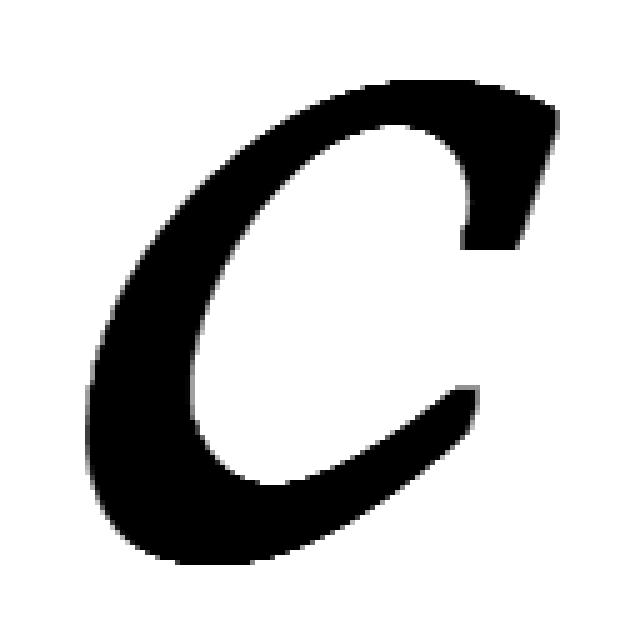C: (85, 80, 560, 570)
